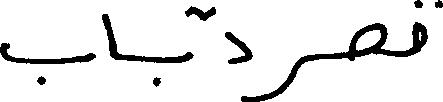X: (0, 38, 93, 89), (252, 50, 302, 101), (413, 0, 442, 59), (227, 27, 250, 101), (353, 18, 386, 65), (103, 9, 115, 64), (182, 1, 191, 66)
